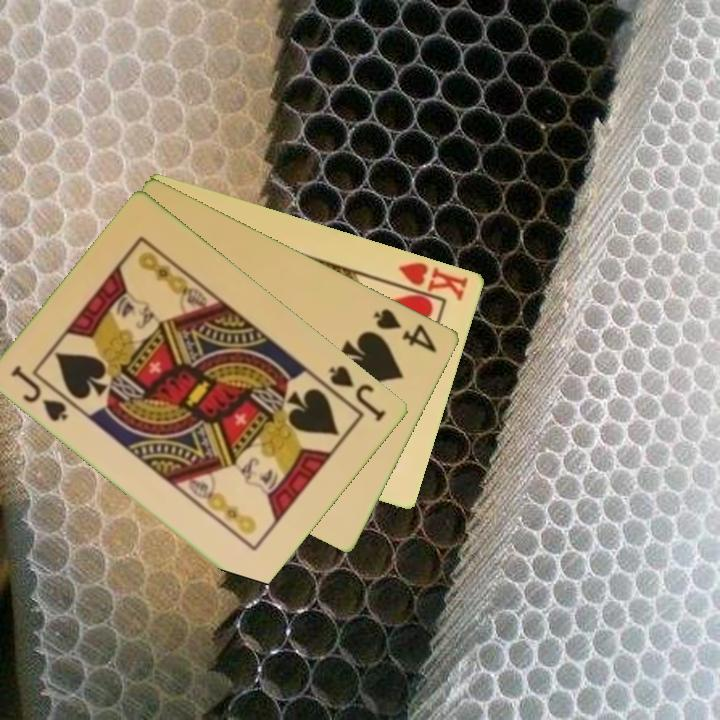4s: (370, 304, 441, 356)
Js: (8, 361, 79, 425), (325, 362, 390, 425)
Kh: (386, 258, 472, 304)
